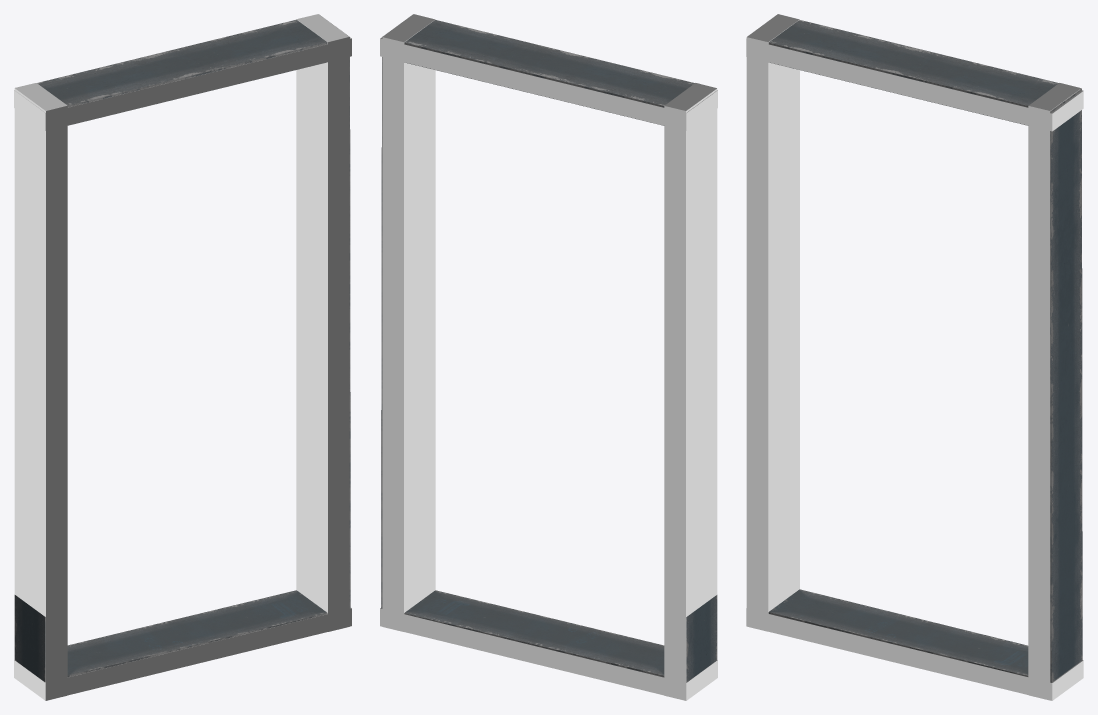
The model's file is SM_Doorway_01.fbx.
3 renders of one model, left to right at view 1: azimuth 30°, elevation 25°; view 2: azimuth 150°, elevation 25°; view 3: azimuth 330°, elevation 25°, orthographic.
Parts seen in each view (by area): view 1: SM_Doorway_01_ConvexHulls, SM_Doorway_01_LOD0; view 2: SM_Doorway_01_ConvexHulls, SM_Doorway_01_LOD0; view 3: SM_Doorway_01_ConvexHulls, SM_Doorway_01_LOD0.
Part boxes in pixels (x1,y1,x2,y2): SM_Doorway_01_ConvexHulls: (14, 14, 351, 700); SM_Doorway_01_LOD0: (14, 14, 350, 682); SM_Doorway_01_ConvexHulls: (380, 14, 717, 700); SM_Doorway_01_LOD0: (381, 17, 717, 682); SM_Doorway_01_ConvexHulls: (746, 14, 1083, 700); SM_Doorway_01_LOD0: (768, 20, 1082, 682).
Bounding box in the file's own units: 143 × 25.35 × 263.
